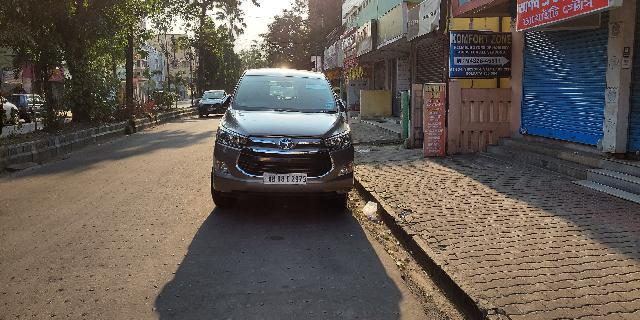Car: (209, 64, 358, 213), (195, 85, 225, 123)
